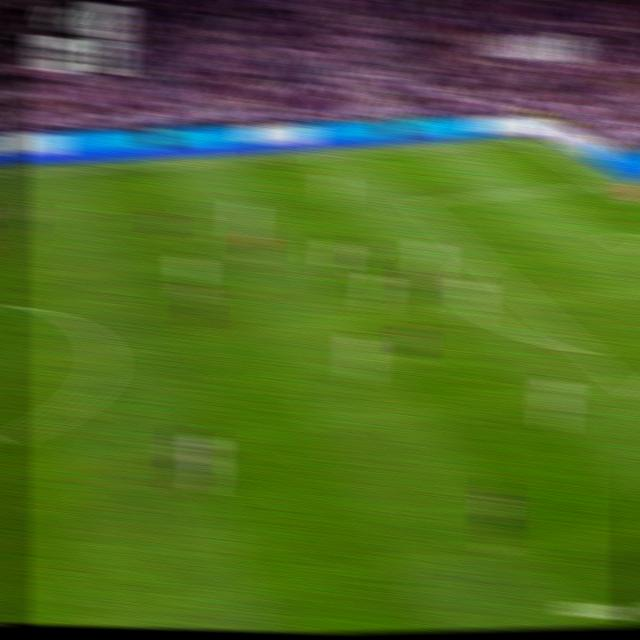bigarea_top_inner: (404, 192, 428, 210)
bigarea_top_outter: (588, 175, 614, 191)
bottom_arc_area_intersection: (572, 338, 600, 362)
corner: (514, 134, 538, 146)
smallarea_top_inner: (602, 228, 627, 246)
top_arc_area_intersection: (469, 250, 494, 268)
